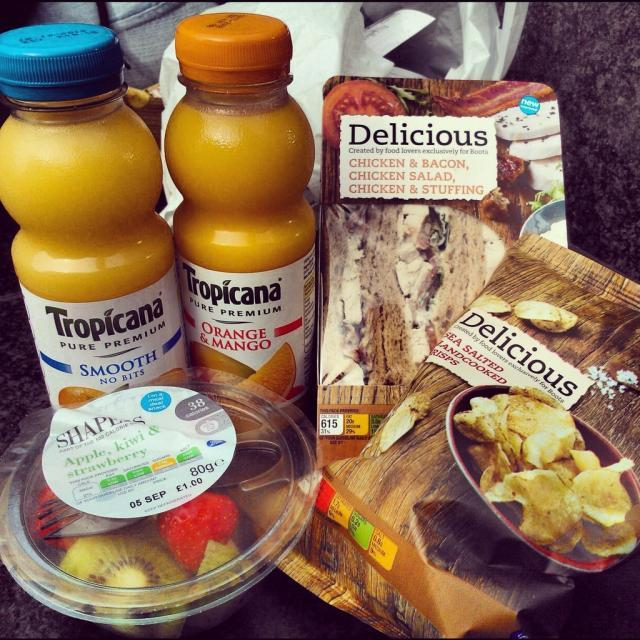Strawberry: (145, 492, 226, 571), (9, 483, 93, 559)
